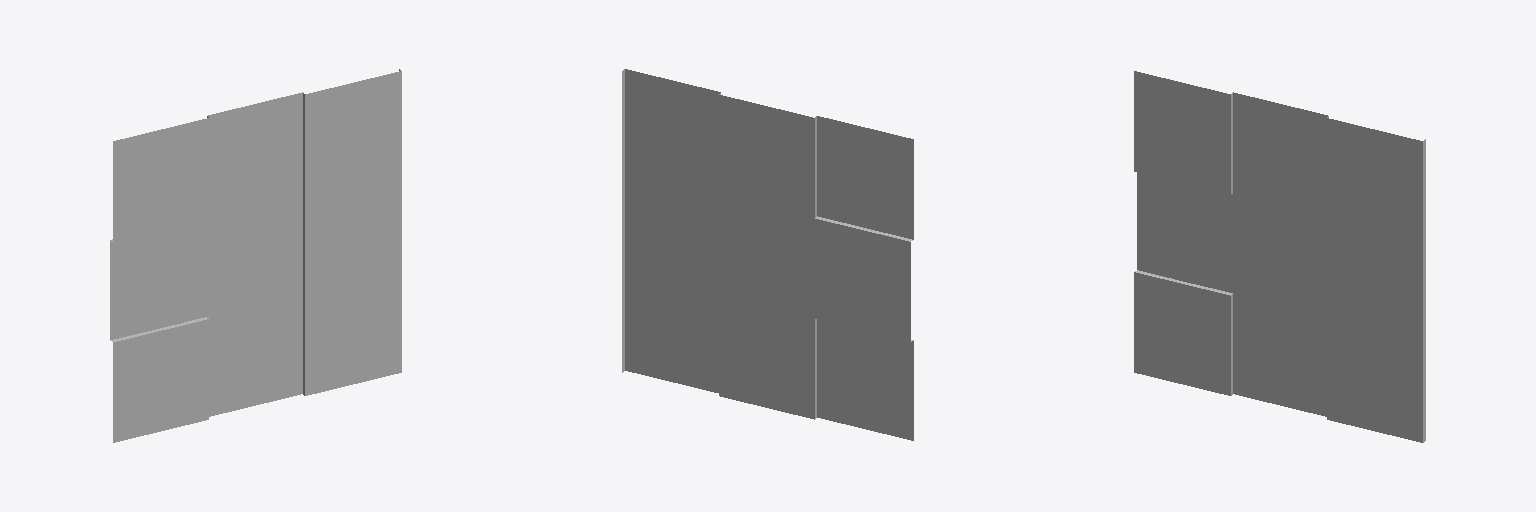
Rendered from roatTee.obj.
3 renders of one model, left to right at view 1: azimuth 30°, elevation 25°; view 2: azimuth 150°, elevation 25°; view 3: azimuth 330°, elevation 25°, orthographic.
Parts seen in each view (by area): view 1: Plane.032_Plane.003; view 2: Plane.032_Plane.003; view 3: Plane.032_Plane.003.
Part boxes in pixels (bbox=[...]): Plane.032_Plane.003: bbox=[110, 69, 401, 442]; Plane.032_Plane.003: bbox=[622, 69, 913, 440]; Plane.032_Plane.003: bbox=[1134, 71, 1425, 442].
Size of the model in its own units: 6 by 6 by 0.1.